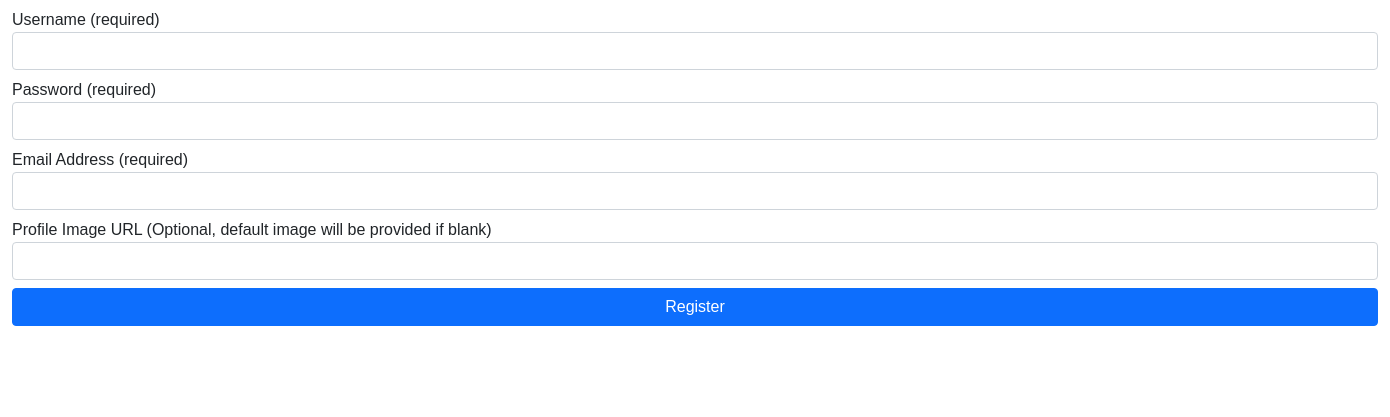
Test case: RegisterForm › Shows error on failed submit
This screenshot has width=1390, height=417.
# Fill in required fields
Type "username" into the field labelled "Username (required)".
click(695, 51); type("username")  # box [12,32,1378,70]
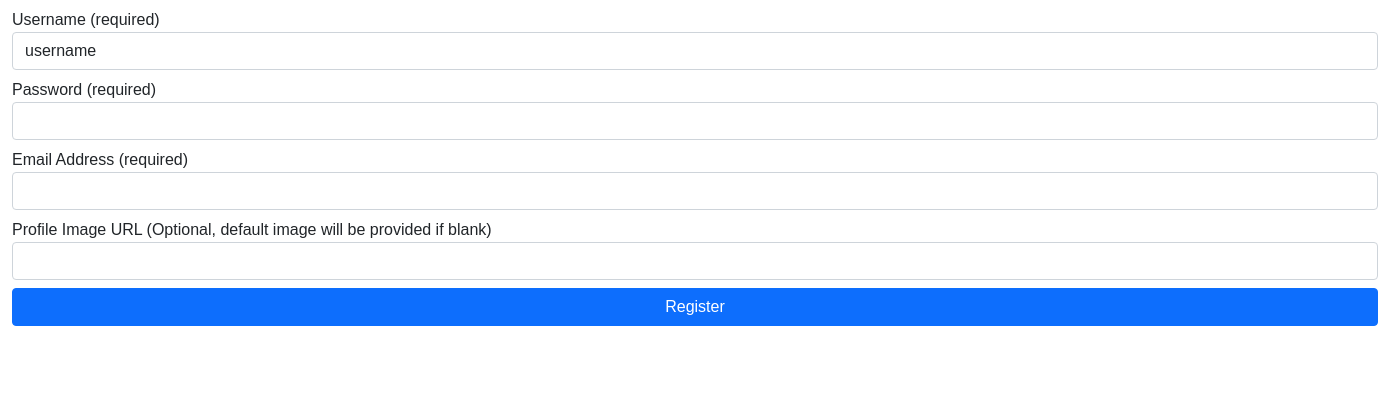
Type "password" into the password field labelled "Password (required)".
click(695, 121); type("password")  # box [12,102,1378,140]
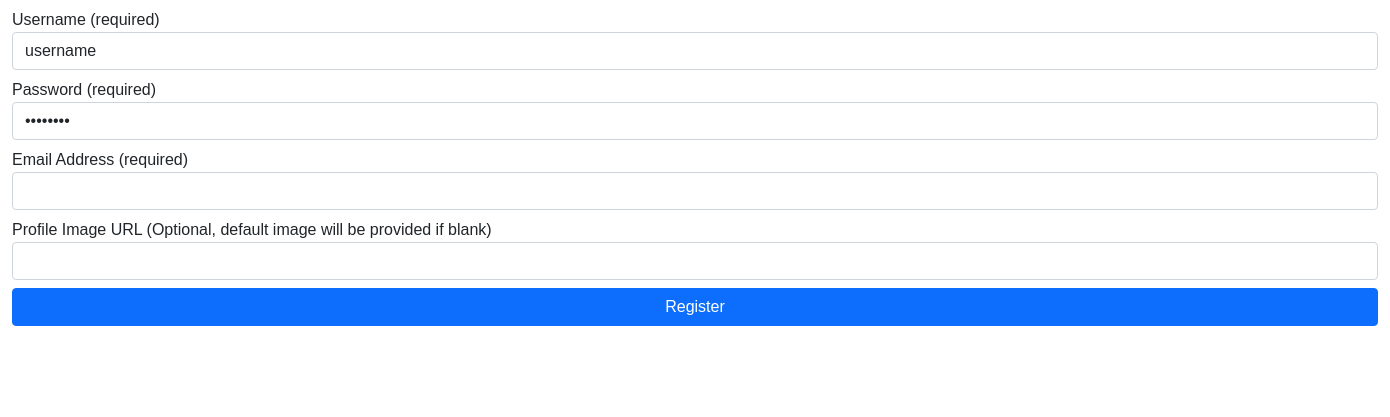
Type "test@test.com" into the field labelled "Email Address (required)".
click(695, 191); type("test@test.com")  # box [12,172,1378,210]
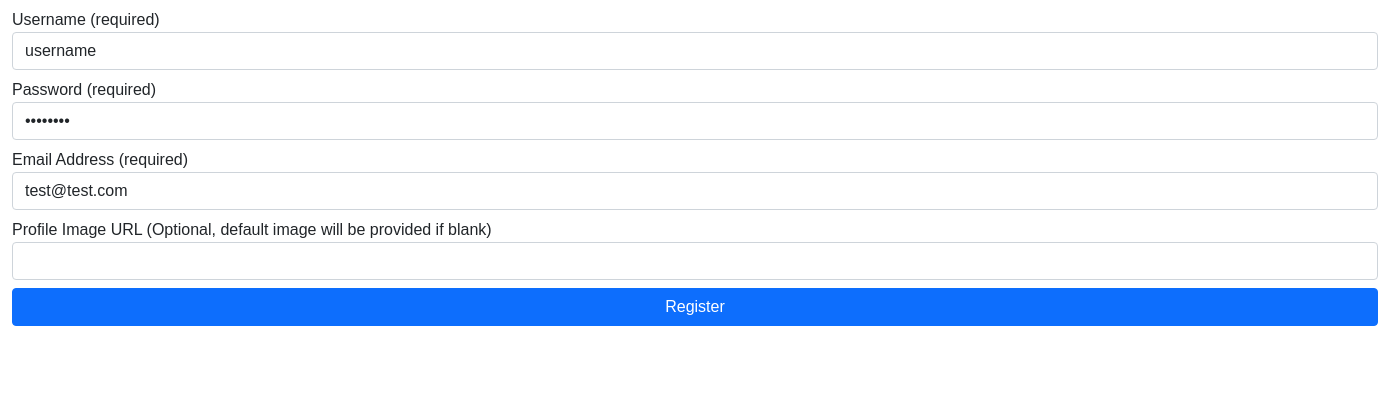
Click the button "Register".
click(695, 307)  # box [12,288,1378,326]
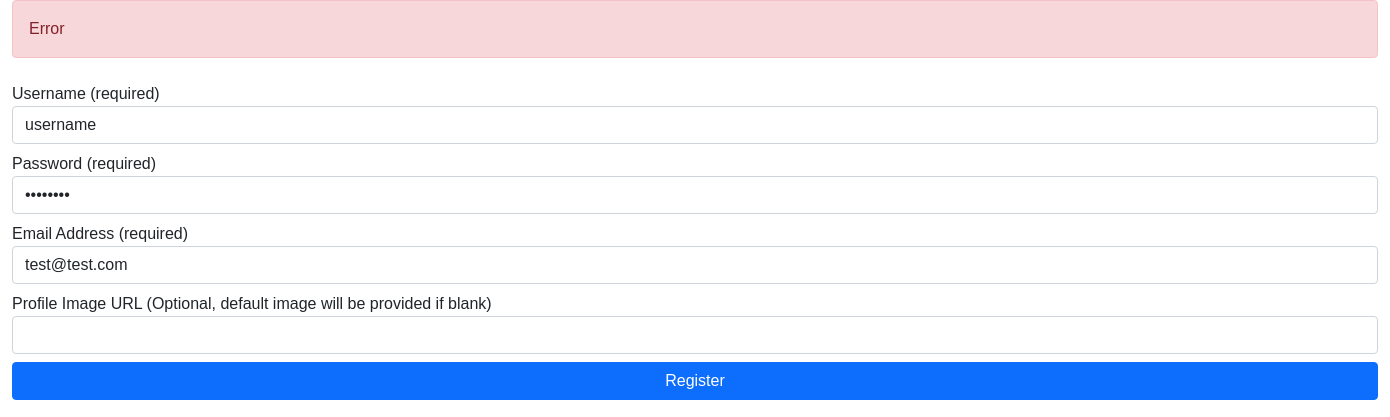
Now the text "Error" is shown, box [12,0,1378,58]
